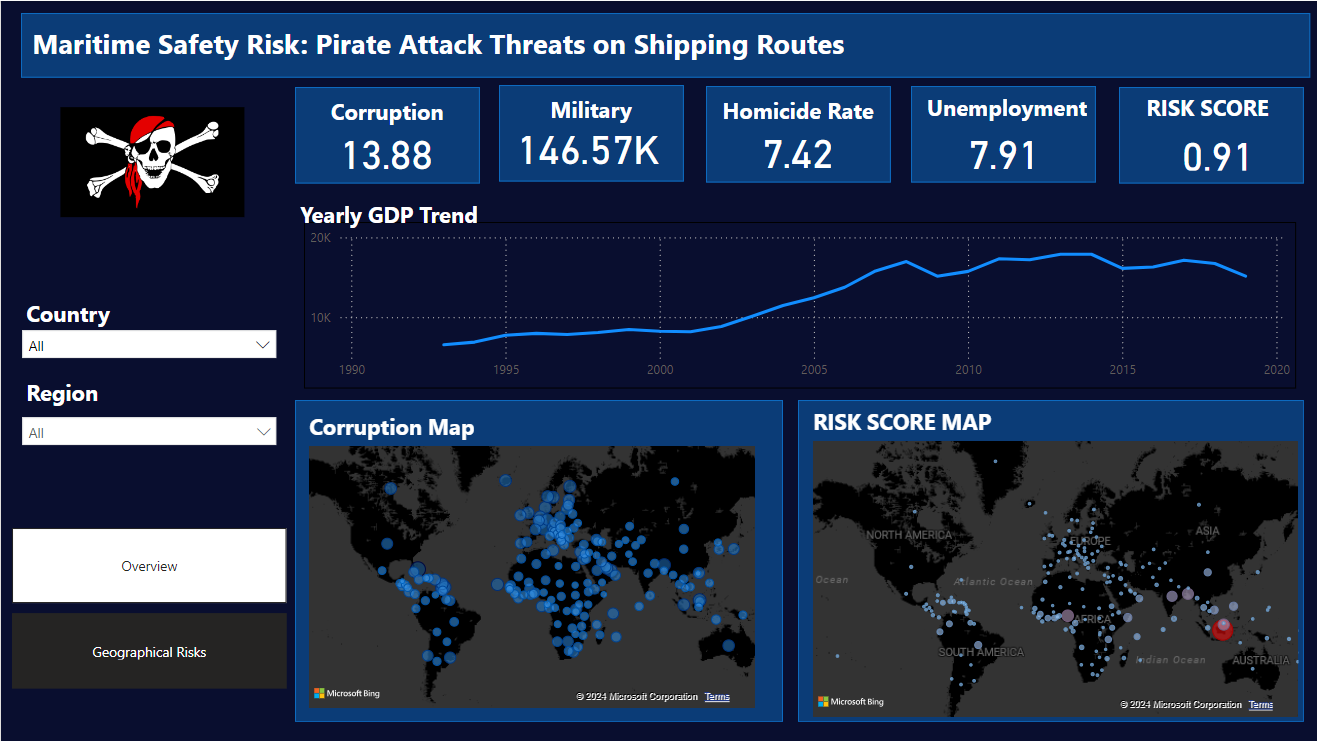

Layout of this report page (visuals, bound fields, positions):
{"tool":"powerbi","page":{"name":"Geographical Risks","canvas":[1280,720],"ordinal":1},"visuals":[{"type":"shape","box":[885.3,82.9,179.9,93.9],"z":0},{"type":"shape","box":[685.5,82.9,179.9,93.9],"z":1000},{"type":"shape","box":[484.6,81.9,179.9,93.9],"z":2000},{"type":"shape","box":[19,12,1254,63],"z":3000},{"type":"shape","box":[285.8,83.9,179.9,93.9],"z":4000},{"type":"cardVisual","fields":{"Data":["Avg(Details.corruption_index)"]},"box":[311.8,101.9,127.9,71.9],"z":5000},{"type":"cardVisual","fields":{"Data":["Avg(Details.homicide_rate)"]},"box":[702.5,98.9,145.9,89.9],"z":6000},{"type":"shape","box":[286,388.1,474.7,313.2],"z":8000},{"type":"cardVisual","fields":{"Data":["Avg(Details.unemployment_rate)"]},"box":[898.7,102.1,153.7,72.9],"z":9000},{"type":"textbox","box":[276.8,87.9,196.8,43],"z":10000},{"type":"textbox","box":[495.6,85.9,149.9,43],"z":11000},{"type":"cardVisual","fields":{"Data":["Avg(Details.total_military)"]},"box":[484.6,96.9,179.9,74.9],"z":12000},{"type":"textbox","box":[681.5,86.9,186.9,57],"z":13000},{"type":"shape","box":[1087.2,83.9,179.9,93.9],"z":14000},{"type":"textbox","box":[885.3,83.9,186.9,57],"z":15000},{"type":"textbox","box":[1096.1,83.9,154.9,46],"z":16000},{"type":"cardVisual","fields":{"Data":["Avg(Details.Score)"]},"box":[1087.2,103.9,192.8,66.9],"z":17000},{"type":"lineChart","fields":{"Category":["CountryIndicators.year"],"Y":["Avg(CountryIndicators.GDP)"]},"box":[294.7,215,964.9,162.4],"z":18000},{"type":"shape","box":[775.2,388.1,492.2,313.2],"z":19000},{"type":"map","fields":{"Category":["CountryData.country_code"],"Size":["Avg(CountryIndicators.corruption_index)"]},"box":[294.7,428,443.5,264.6],"z":20000},{"type":"map","fields":{"Size":["Avg(Details.Score)"],"Category":["CountryData.country_code"]},"box":[784.9,423.1,482.4,278.2],"z":21000},{"type":"slicer","fields":{"Values":["CountryData.country_code"]},"box":[10.7,310.3,266.5,49.6],"z":22000},{"type":"slicer","fields":{"Values":["CountryData.region"]},"box":[10.7,394.9,267.5,55.4],"z":23000},{"type":"pageNavigator","box":[10.7,512.6,267.5,156.6],"z":24000},{"type":"textbox","box":[19.5,284,125.5,67.1],"z":25000},{"type":"textbox","box":[19.5,360.9,125.5,67.1],"z":26000},{"type":"textbox","box":[294.7,393.9,171.2,67.1],"z":27000},{"type":"textbox","box":[784.9,389.1,205.2,67.1],"z":28000},{"type":"image","box":[44,97.9,207.8,116.9],"z":29000},{"type":"textbox","box":[25,18,834.3,54],"z":30000},{"type":"textbox","box":[286,187.7,198.4,53.5],"z":30001}]}

Visuals, with their boxes in screenshot pixels (x1, y1, x2, y2), scaled from the page's 1280x720 canvas onto the 1317x741 screenshot:
shape: left=911, top=85, right=1096, bottom=182
shape: left=705, top=85, right=890, bottom=182
shape: left=499, top=84, right=684, bottom=181
shape: left=20, top=12, right=1310, bottom=77
shape: left=294, top=86, right=479, bottom=183
cardVisual - Avg(Details.corruption_index): left=321, top=105, right=452, bottom=179
cardVisual - Avg(Details.homicide_rate): left=723, top=102, right=873, bottom=194
shape: left=294, top=399, right=783, bottom=722
cardVisual - Avg(Details.unemployment_rate): left=925, top=105, right=1083, bottom=180
textbox: left=285, top=90, right=487, bottom=135
textbox: left=510, top=88, right=664, bottom=133
cardVisual - Avg(Details.total_military): left=499, top=100, right=684, bottom=177
textbox: left=701, top=89, right=894, bottom=148
shape: left=1119, top=86, right=1304, bottom=183
textbox: left=911, top=86, right=1103, bottom=145
textbox: left=1128, top=86, right=1287, bottom=134
cardVisual - Avg(Details.Score): left=1119, top=107, right=1316, bottom=176
lineChart - CountryIndicators.year x Avg(CountryIndicators.GDP): left=303, top=221, right=1296, bottom=388
shape: left=798, top=399, right=1304, bottom=722
map - CountryData.country_code x Avg(CountryIndicators.corruption_index): left=303, top=440, right=760, bottom=713
map - Avg(Details.Score) x CountryData.country_code: left=808, top=435, right=1304, bottom=722
slicer - CountryData.country_code: left=11, top=319, right=285, bottom=370
slicer - CountryData.region: left=11, top=406, right=286, bottom=463
pageNavigator: left=11, top=528, right=286, bottom=689
textbox: left=20, top=292, right=149, bottom=361
textbox: left=20, top=371, right=149, bottom=440
textbox: left=303, top=405, right=479, bottom=474
textbox: left=808, top=400, right=1019, bottom=470
image: left=45, top=101, right=259, bottom=221
textbox: left=26, top=19, right=884, bottom=74
textbox: left=294, top=193, right=498, bottom=248
